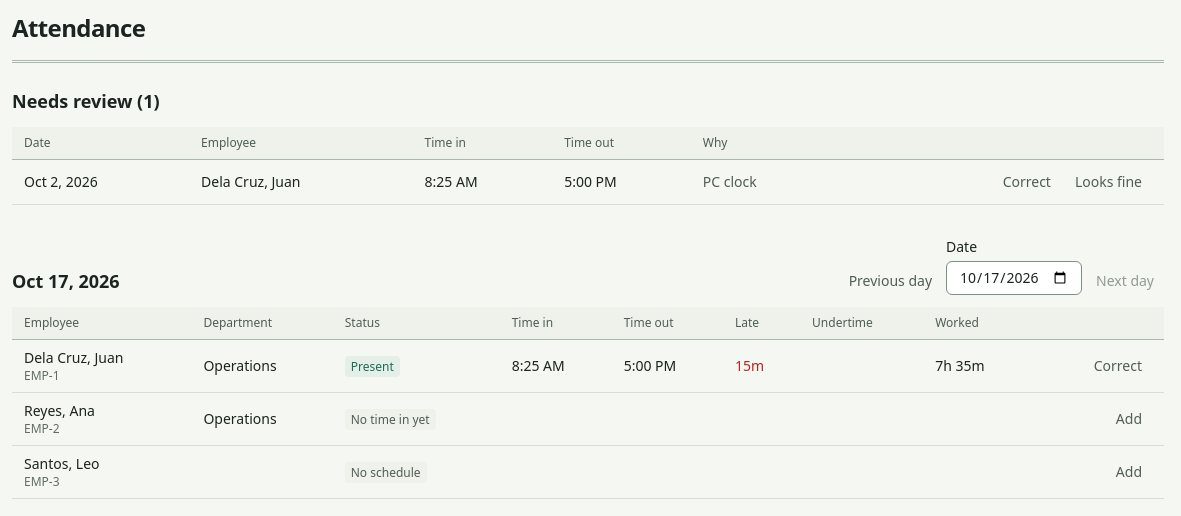
it: AttendancePage › loads another day from the date picker
Expected: the row "Reyes, Ana EMP-2 Operations No time in yet Add" is shown, top-left (12, 392), bottom-right (1164, 446)
Type "2026-10-02" into the date field labelled "Date" at (1014, 278), box top-left (946, 261), bottom-right (1082, 295)
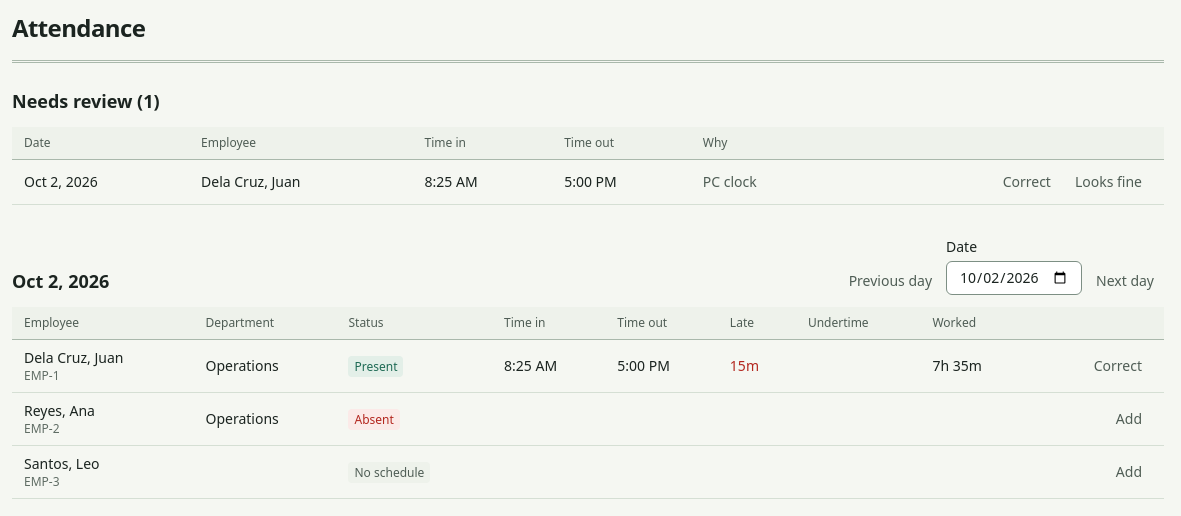
Result: the text "Absent" is shown at top-left (348, 409), bottom-right (400, 430)
